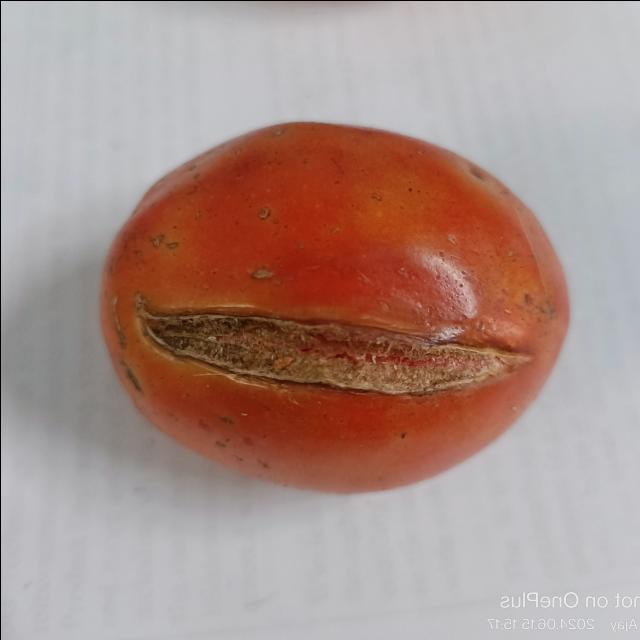tomato_cracking: (130, 280, 546, 410)
